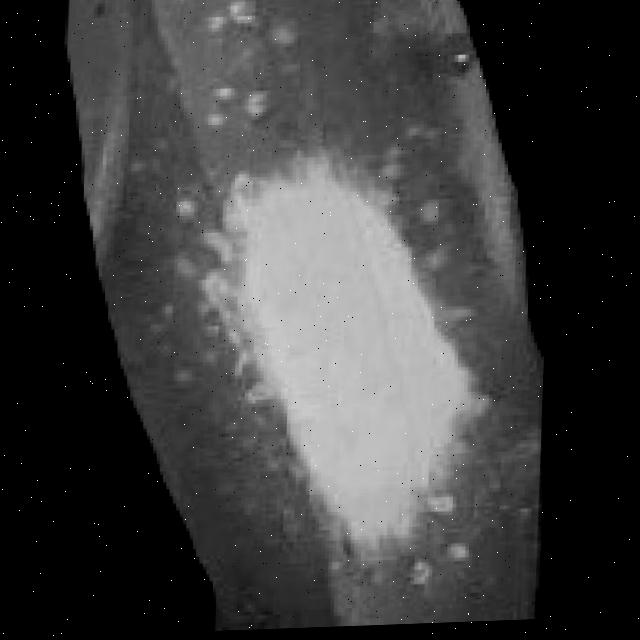mite: (409, 539, 491, 628), (410, 543, 480, 599), (418, 36, 484, 88), (78, 0, 126, 37), (443, 539, 484, 576), (447, 51, 484, 84), (85, 0, 119, 30), (417, 203, 447, 232), (414, 562, 440, 595), (450, 547, 476, 569), (454, 54, 476, 73), (93, 4, 111, 22)
spots: (46, 0, 564, 638)
sunburn: (188, 140, 510, 587)
